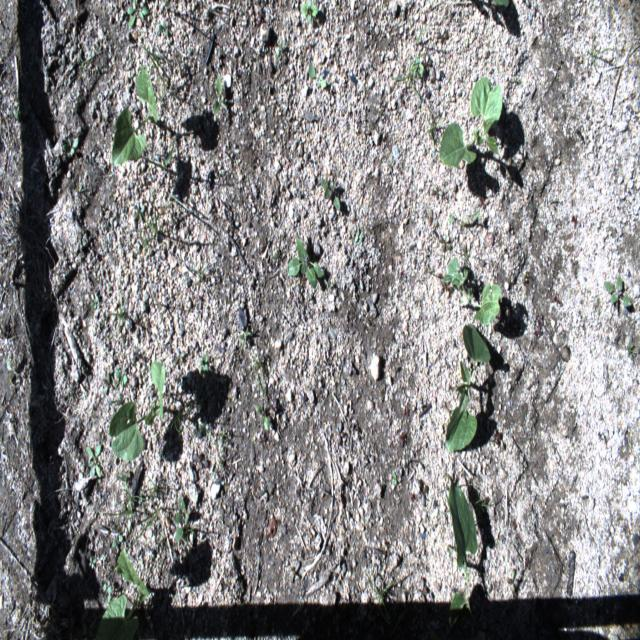crop: (445, 324, 492, 453), (440, 76, 503, 168), (109, 360, 166, 460), (95, 546, 149, 639), (447, 473, 478, 633), (111, 65, 158, 165), (493, 0, 510, 8)
weed: (108, 498, 172, 574), (133, 27, 182, 110), (443, 257, 501, 325), (103, 471, 144, 534), (194, 422, 231, 491), (101, 276, 125, 362), (140, 184, 168, 255), (287, 237, 325, 288), (392, 53, 428, 106), (366, 567, 398, 626), (140, 130, 177, 170), (474, 476, 504, 516), (582, 31, 614, 67), (173, 494, 194, 545), (248, 340, 264, 398), (425, 111, 447, 152), (603, 275, 632, 306), (139, 474, 159, 516), (170, 406, 192, 437), (126, 0, 148, 30), (106, 374, 124, 410), (320, 179, 340, 211), (448, 207, 481, 226), (190, 262, 209, 294), (212, 76, 228, 114), (86, 443, 101, 478), (300, 0, 319, 24), (308, 65, 326, 89), (255, 402, 269, 431), (113, 368, 128, 395), (238, 326, 252, 351), (416, 21, 431, 44), (503, 156, 518, 179), (62, 136, 78, 156), (418, 478, 429, 506), (417, 577, 427, 605), (102, 372, 114, 395), (198, 353, 209, 376), (290, 560, 300, 584), (133, 202, 144, 223), (173, 347, 185, 366), (350, 227, 362, 246), (276, 37, 286, 58), (439, 235, 451, 252), (103, 580, 111, 604), (628, 340, 640, 356), (428, 209, 438, 228), (431, 186, 444, 200), (158, 20, 168, 36), (112, 535, 123, 548), (90, 296, 100, 309), (594, 296, 600, 315), (15, 102, 21, 121), (392, 468, 397, 488), (89, 557, 97, 569), (326, 278, 334, 290)
